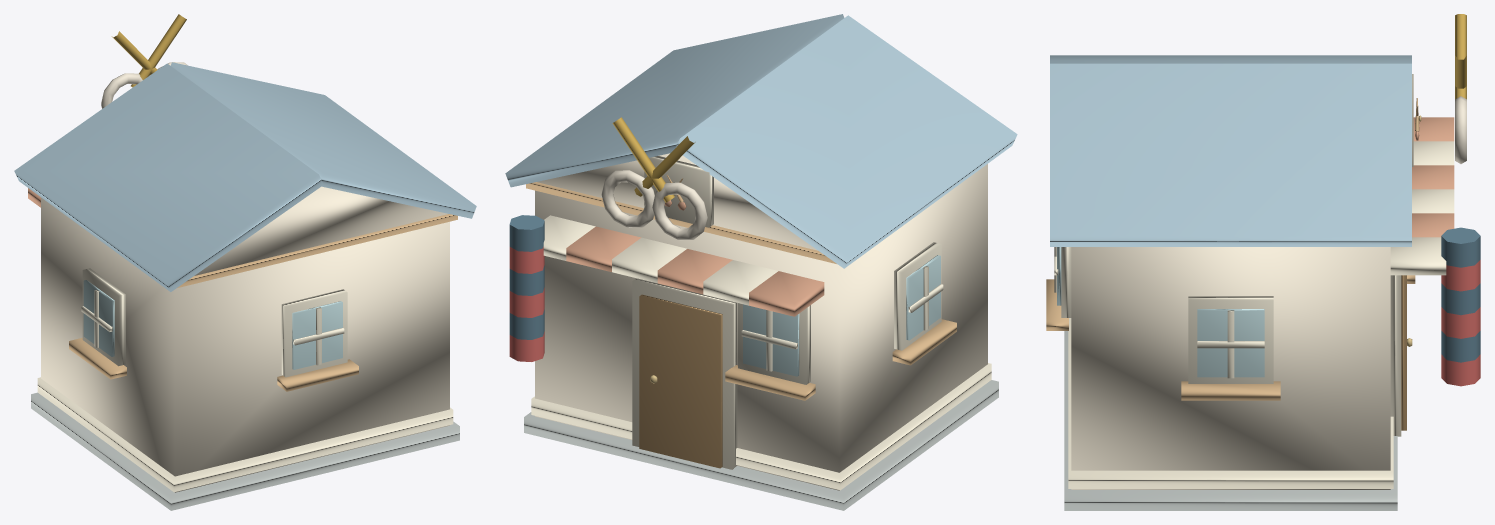
The model's file is hair_low.glb.
3 renders of one model, left to right at view 1: azimuth 30°, elevation 25°; view 2: azimuth 150°, elevation 25°; view 3: azimuth 270°, elevation 25°, orthographic. The views are drawn at different scales.
Size of the model in its own units: 3.62 by 3.68 by 3.67.
